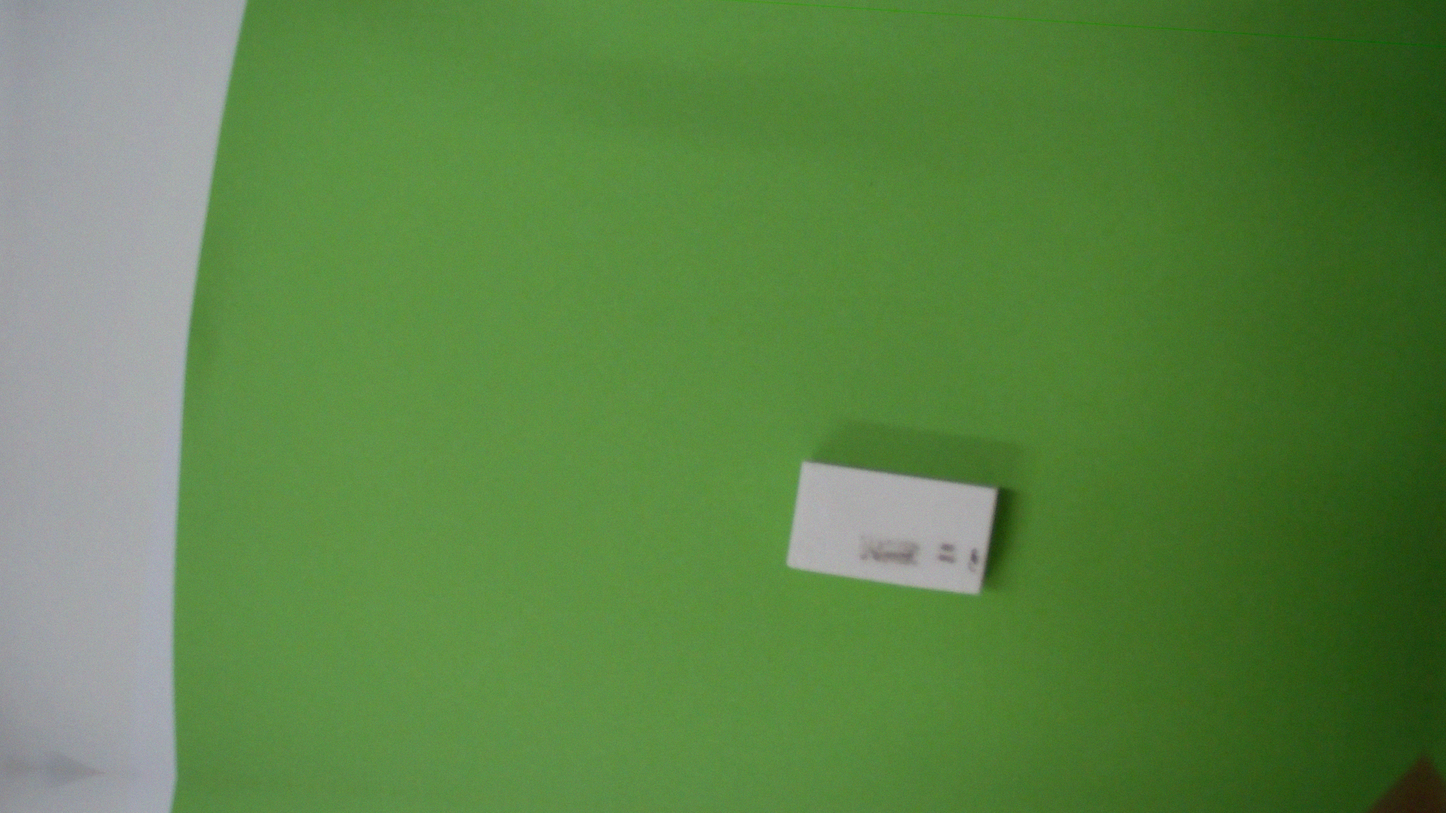gom: (783, 449, 1002, 608)
